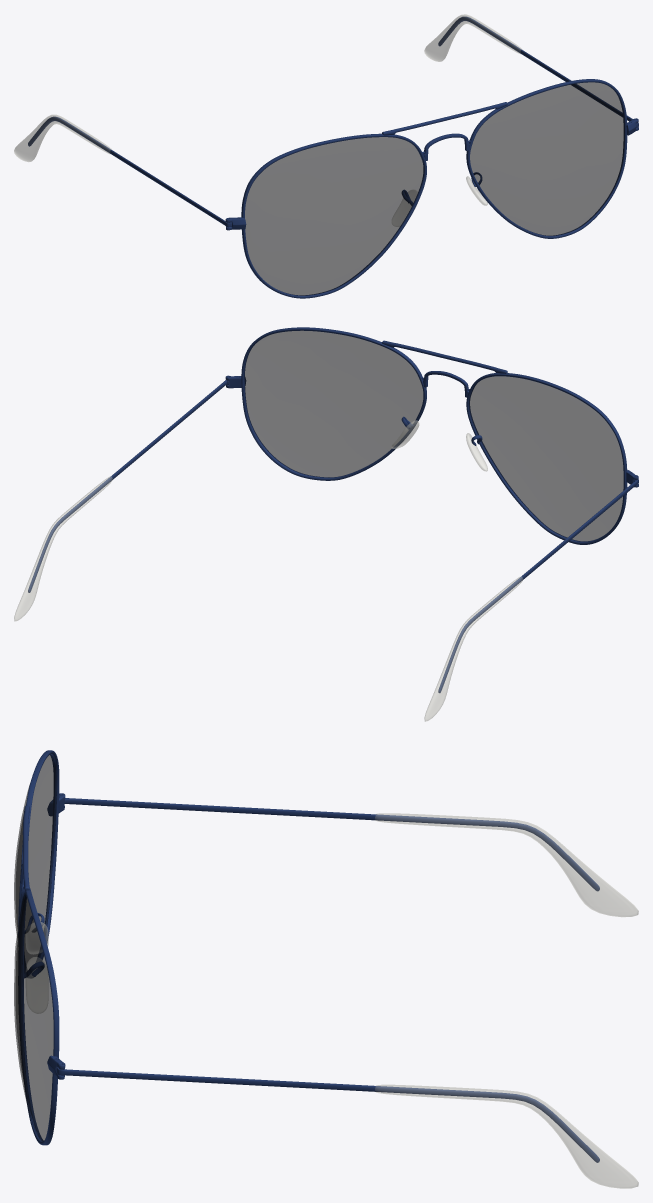
File: oversize-kare-gece-mavisi.glb
3 renders of one model, top to bottom at view 1: azimuth 30°, elevation 25°; view 2: azimuth 150°, elevation 25°; view 3: azimuth 270°, elevation 25°, orthographic. The views are drawn at different scales.
Visible parts, largest first — view 1: OPTIK_PRODUCT_249; view 2: OPTIK_PRODUCT_249; view 3: OPTIK_PRODUCT_249.
Part boxes in pixels (x1,y1,x2,y2): OPTIK_PRODUCT_249: (14, 14, 638, 298); OPTIK_PRODUCT_249: (14, 327, 638, 721); OPTIK_PRODUCT_249: (14, 750, 638, 1188).
Bounding box in the file's own units: 0.215 × 0.076 × 0.2062.
